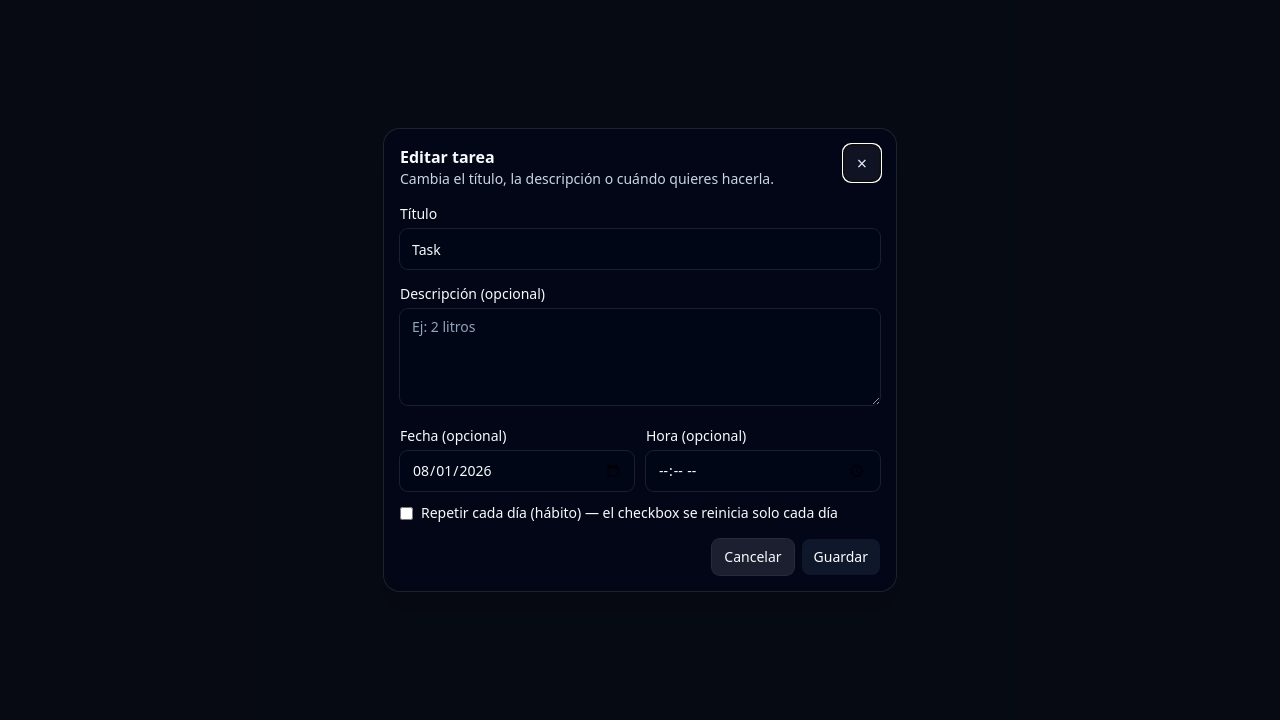
Scenario: TaskFormModal › clears and disables the date field when "Repetir cada día" is checked
Check: the date field labelled "Fecha (opcional)" holds "2026-08-01", box [400,451,634,491]
Click the checkbox labelled "Repetir cada día" at (406,513), box [400,506,413,520]
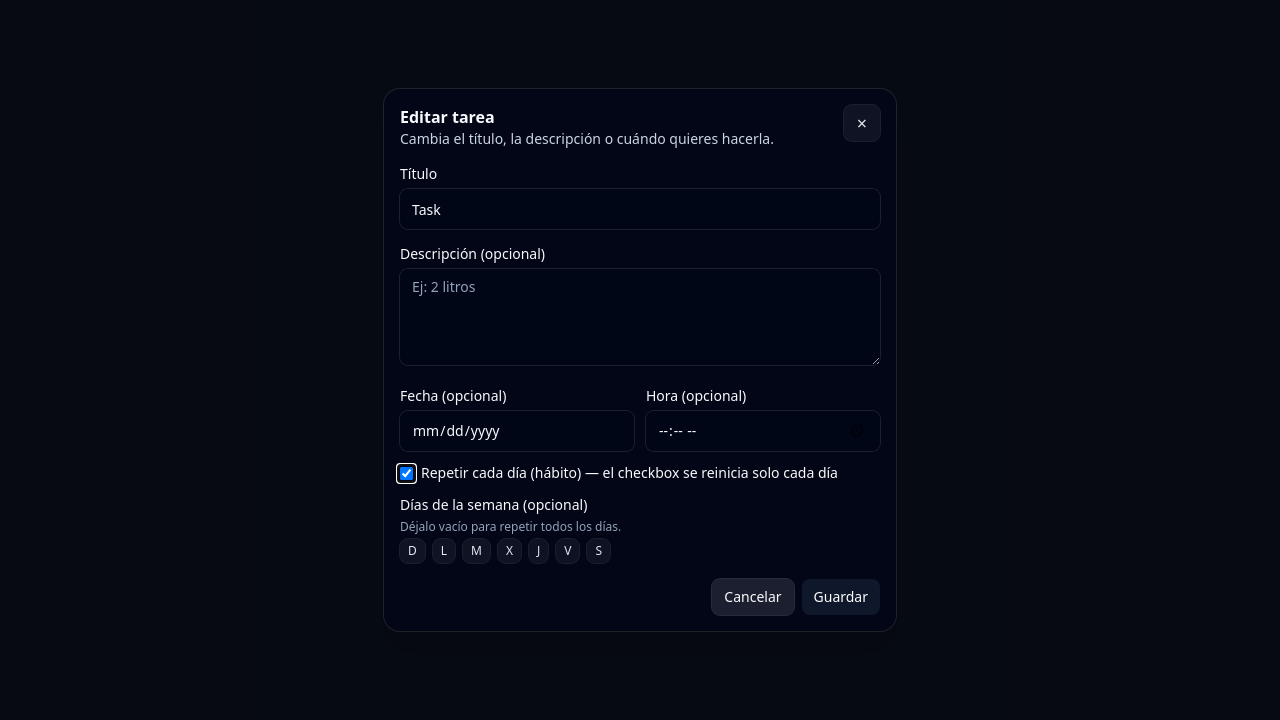
Check: the date field labelled "Fecha (opcional)" is disabled, box [400,411,634,451]
Check: the date field labelled "Fecha (opcional)" is empty, box [400,411,634,451]
